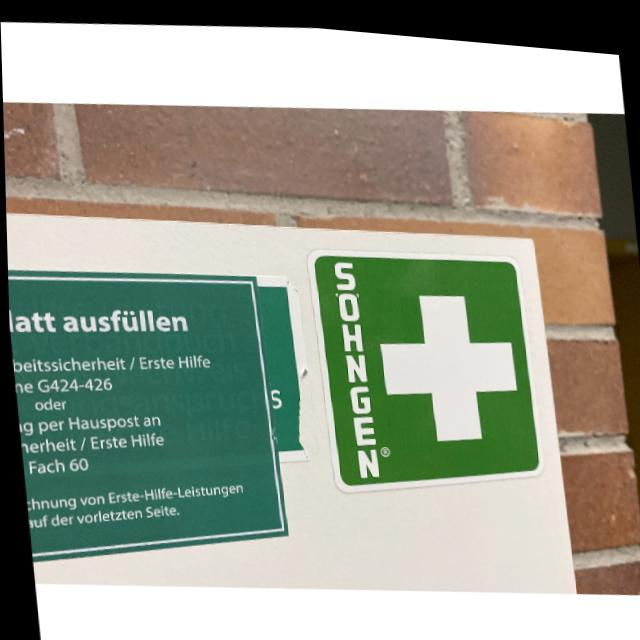first aid kit: (303, 227, 543, 502)
